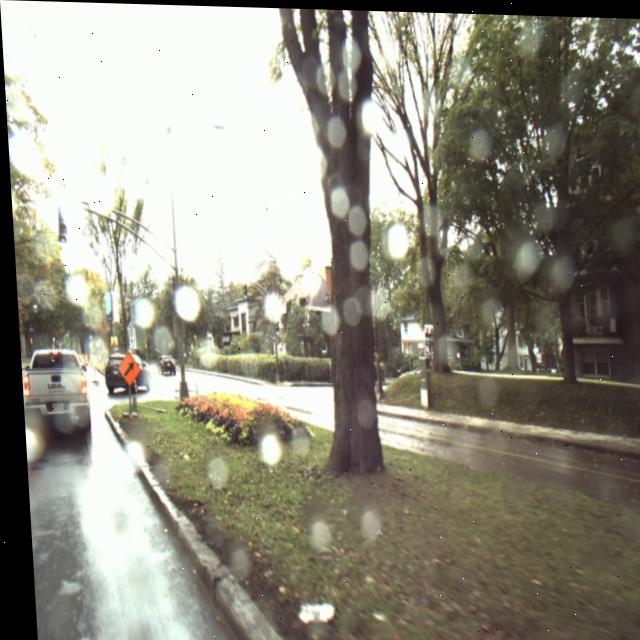car: (16, 348, 88, 436), (99, 352, 146, 394), (153, 355, 172, 374)
trafficLight: (53, 221, 67, 244)
trafficLight-Green: (238, 282, 244, 300), (271, 318, 277, 336)
